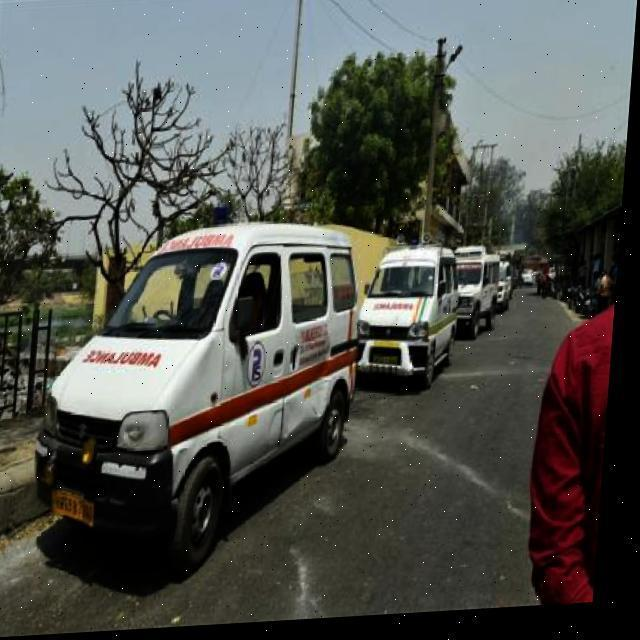Ambulance: (0, 274, 616, 638), (29, 211, 378, 588), (526, 240, 623, 612), (354, 242, 472, 401), (450, 247, 510, 351)
